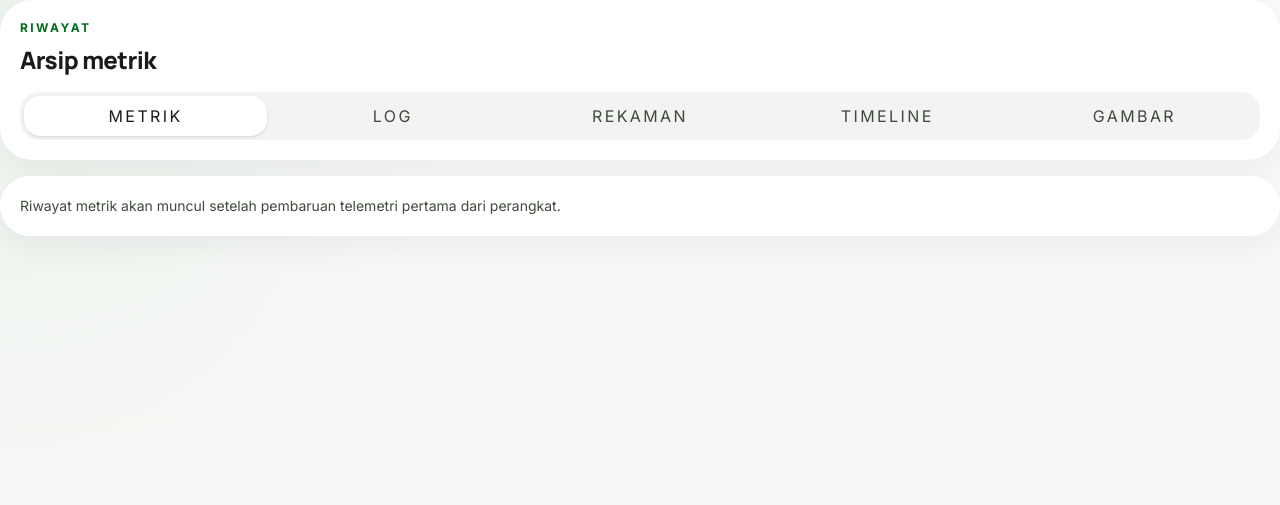
HistoryPanel › timeline tab › renders timeline events and the current plant
Click the button "Timeline".
click(887, 116)  # box [766, 96, 1009, 136]
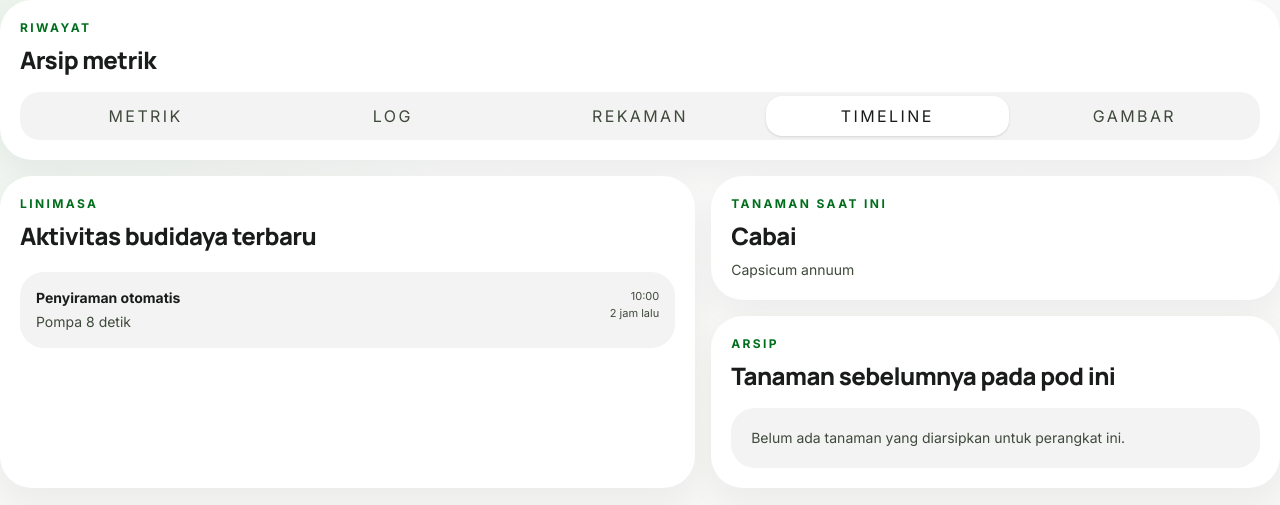
Check: the text "Penyiraman otomatis" is shown, box [36, 288, 180, 308]
Check: the text "Cabai" is shown, box [731, 219, 796, 252]
